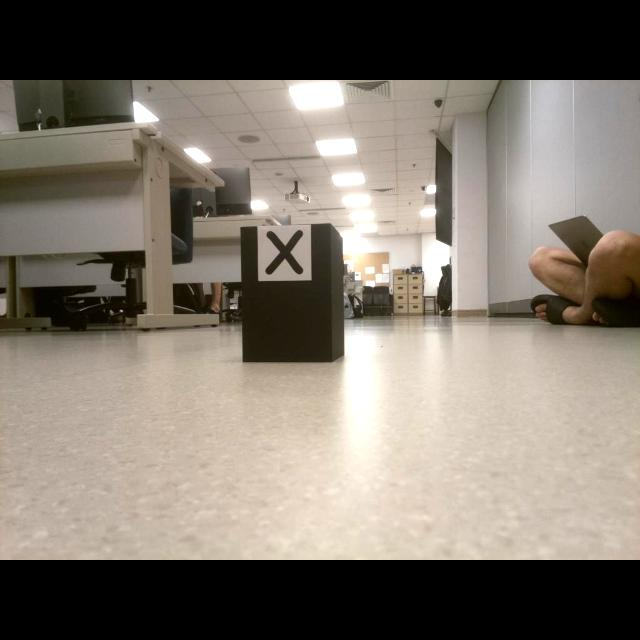X: (265, 229, 304, 275)
